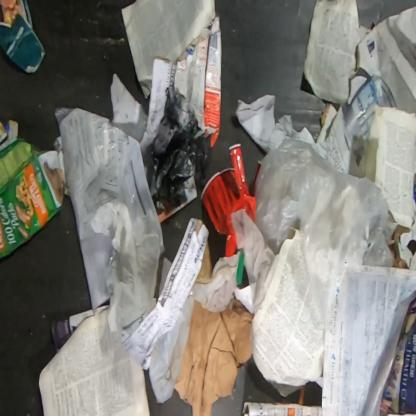cardboard: (316, 6, 415, 179), (0, 136, 63, 264), (165, 15, 222, 151)
rigid_plastic: (200, 142, 256, 258)
soft_plastic: (254, 140, 398, 318), (53, 106, 155, 310), (148, 89, 213, 216)
